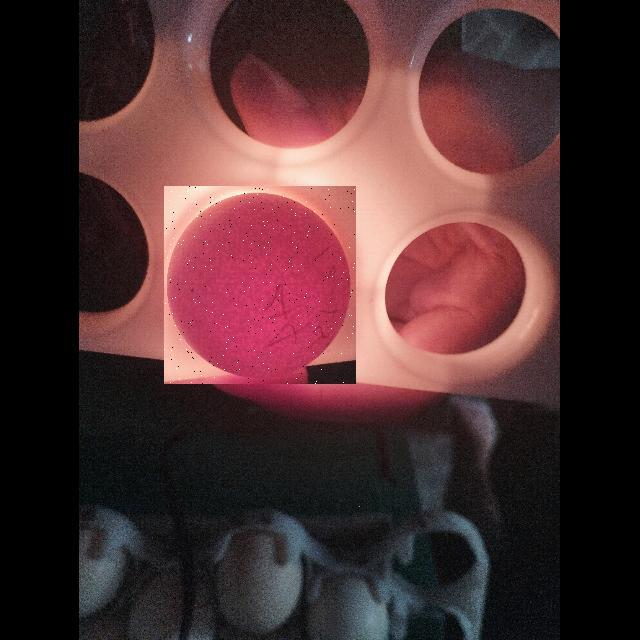Infertile: (164, 186, 356, 384)
